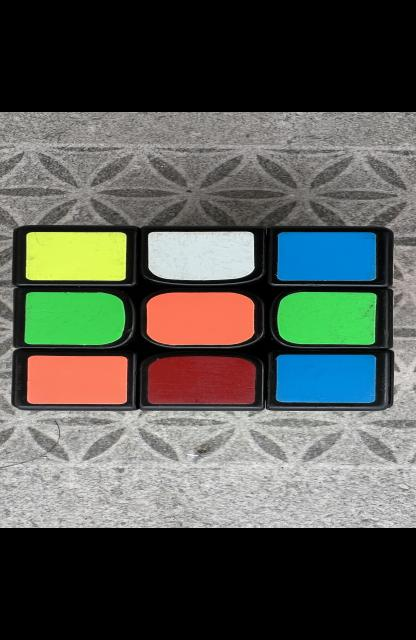Blue: (276, 232, 375, 281), (275, 355, 375, 403)
Green: (23, 292, 125, 345), (276, 292, 376, 344)
Orange: (145, 292, 253, 345), (26, 356, 126, 404)
Red: (146, 356, 255, 404)
White: (146, 231, 253, 280)
Yellow: (25, 232, 126, 281)
